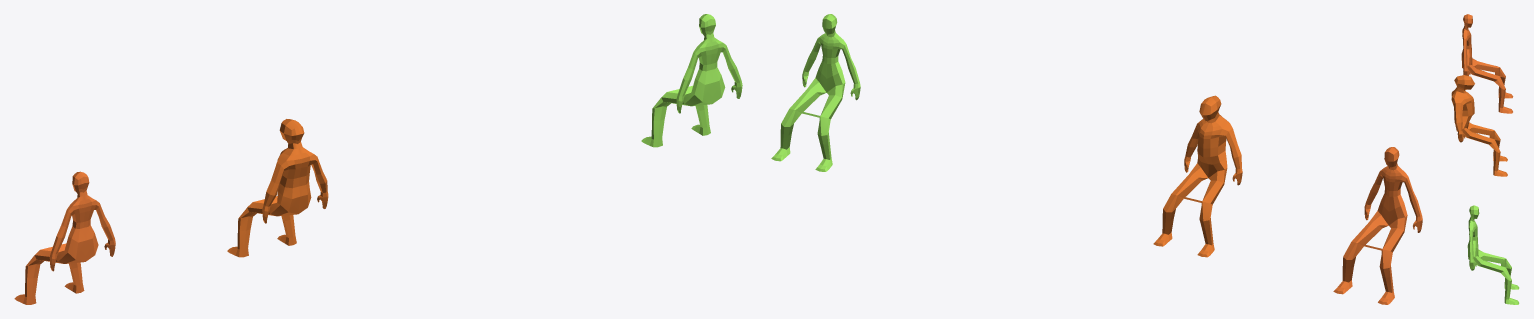
The model's file is row_3.glb.
3 views of the same model, side by side, from view 1: azimuth 30°, elevation 25°; view 2: azimuth 150°, elevation 25°; view 3: azimuth 270°, elevation 25° (orthographic). The views are drawn at different scales.
Visible parts, largest first — view 1: Student.006, Student.008, Student.007; view 2: Student.006, Student.007, Student.008; view 3: Student.006, Student.008, Student.007.
Part boxes in pixels (box(x1,y1,x2,y2)): Student.006: box(227, 119, 328, 257); Student.008: box(641, 14, 742, 147); Student.007: box(14, 171, 115, 304); Student.006: box(1153, 95, 1242, 257); Student.007: box(1333, 147, 1422, 304); Student.008: box(771, 14, 860, 171); Student.006: box(1451, 75, 1507, 176); Student.008: box(1467, 205, 1519, 304); Student.007: box(1461, 14, 1513, 113).
Size of the model in its own units: 6.58 by 1.35 by 0.8979.
